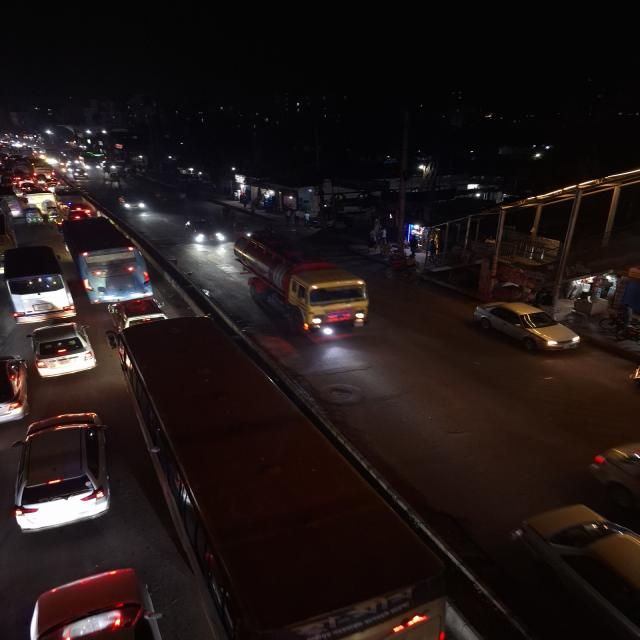bus: (113, 329, 438, 640), (56, 219, 155, 304), (0, 244, 81, 325), (30, 161, 54, 179), (81, 156, 100, 172)
car: (10, 418, 118, 533), (469, 294, 583, 360), (33, 326, 99, 380), (180, 218, 227, 255), (104, 300, 168, 324), (114, 194, 149, 212), (62, 207, 93, 220), (72, 168, 90, 181)
cng: (22, 207, 46, 227)
rickshaw: (382, 250, 423, 286), (220, 206, 239, 224), (108, 170, 124, 187)
truck: (234, 232, 374, 336), (28, 192, 57, 212)
